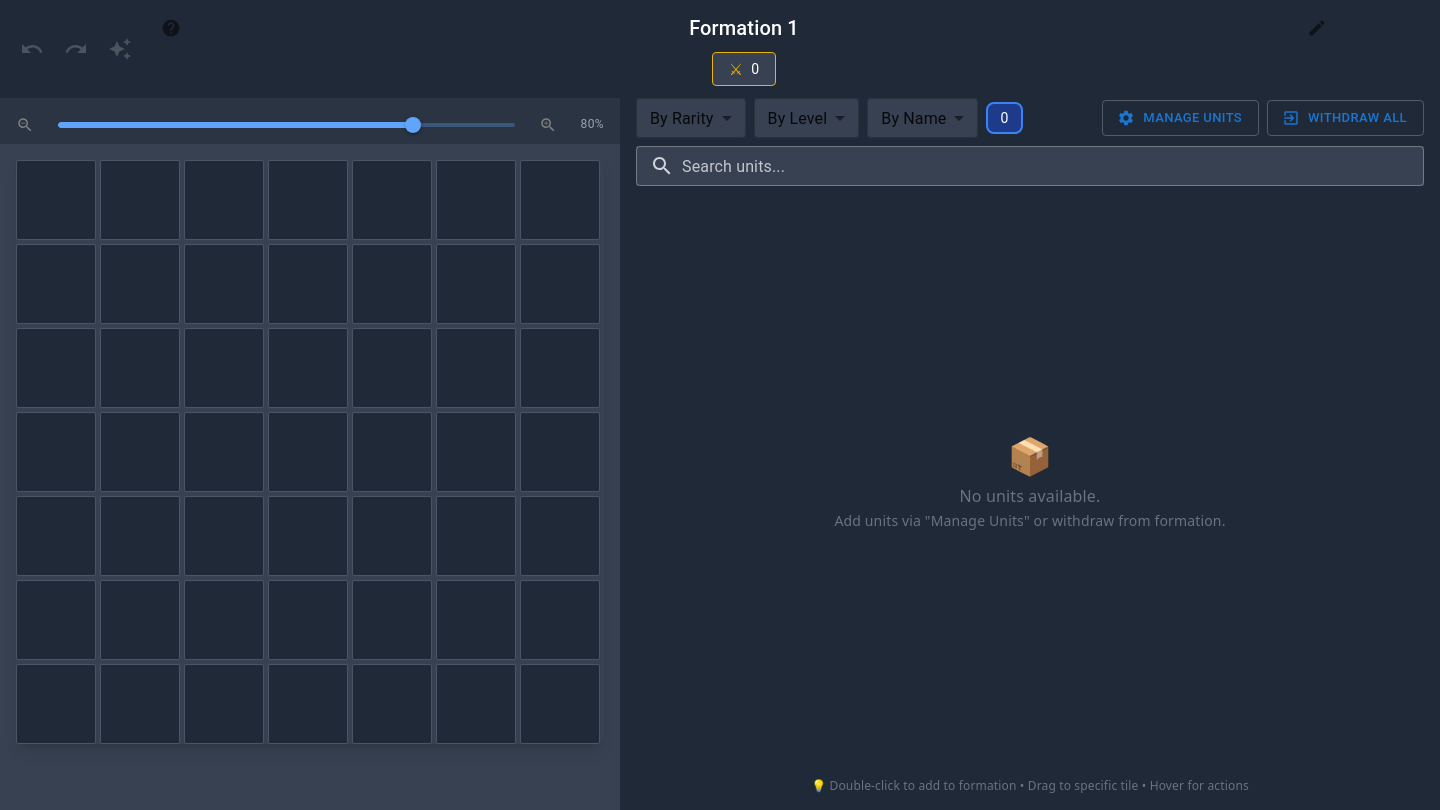
Test case: Unit Management Integration Tests › Manage Units Modal › should open manage units modal when clicking manage button
Click the button "Manage Units". click: (1181,118)
box: [1102,100,1259,136]
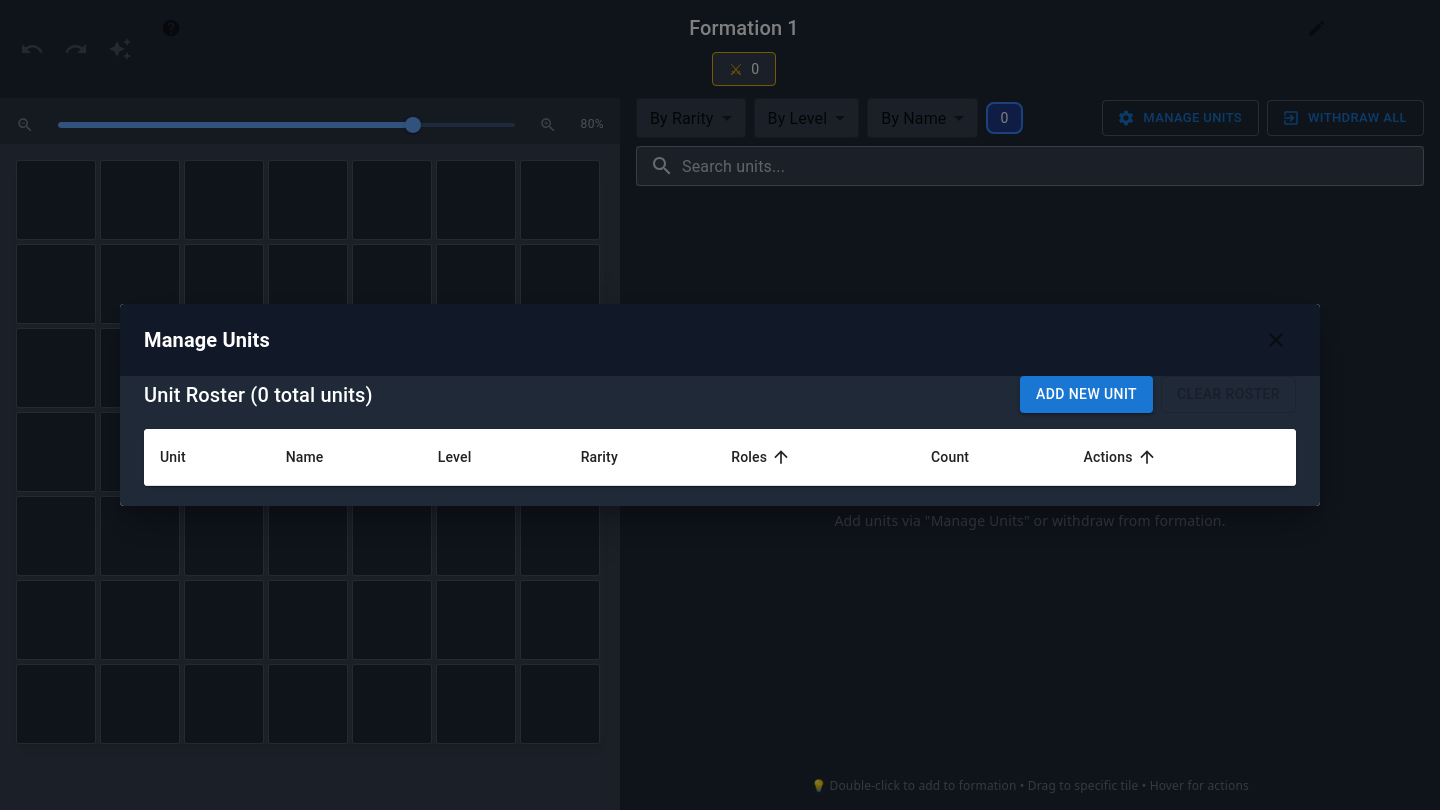
Expected: the dialog is shown, [120,304,1320,506]
